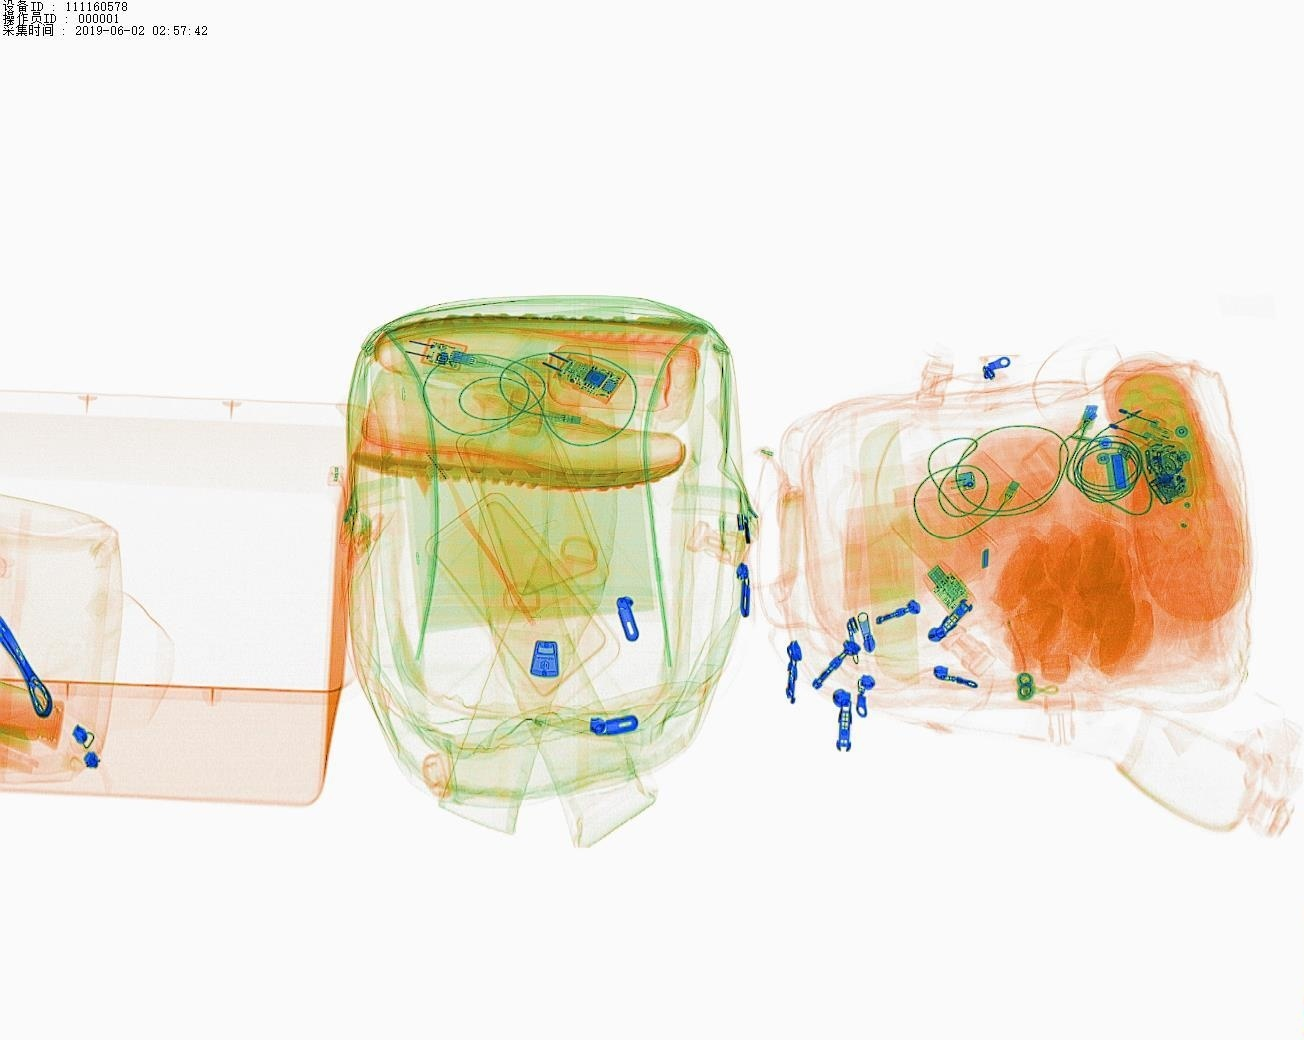NonmetallicFire: (876, 462, 987, 512)
